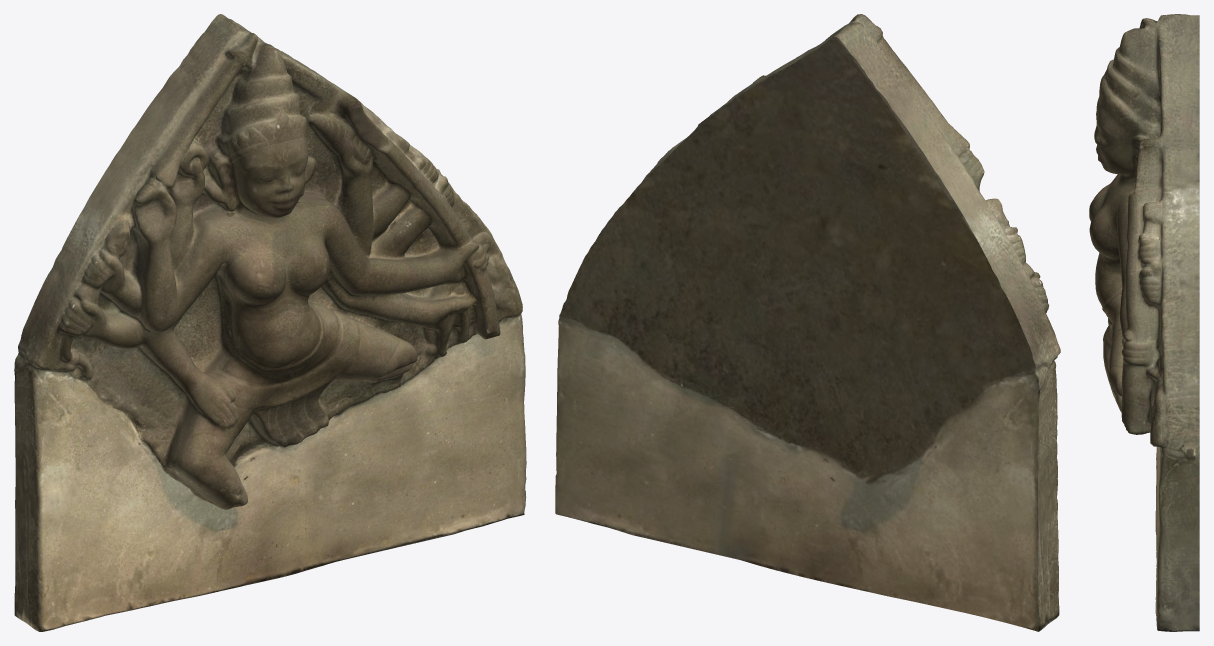
Rendered from 10_durga_final.glb.
3 renders of one model, left to right at view 1: azimuth 30°, elevation 25°; view 2: azimuth 150°, elevation 25°; view 3: azimuth 270°, elevation 25°, orthographic. The views are drawn at different scales.
Bounding box in the file's own units: 0.8371 × 0.9068 × 0.1832.
1 material, 1 textured.
